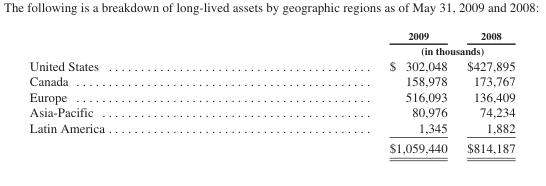table: (28, 29, 514, 155)
table column: (28, 29, 246, 155), (246, 29, 456, 155), (456, 29, 514, 155)
table column header: (28, 29, 514, 57)
table row: (28, 119, 514, 137), (28, 137, 514, 155), (28, 57, 514, 73), (28, 88, 514, 104), (28, 42, 514, 57), (28, 73, 514, 88), (28, 104, 514, 119), (28, 29, 514, 42)
table spanning cell: (246, 42, 514, 57)
